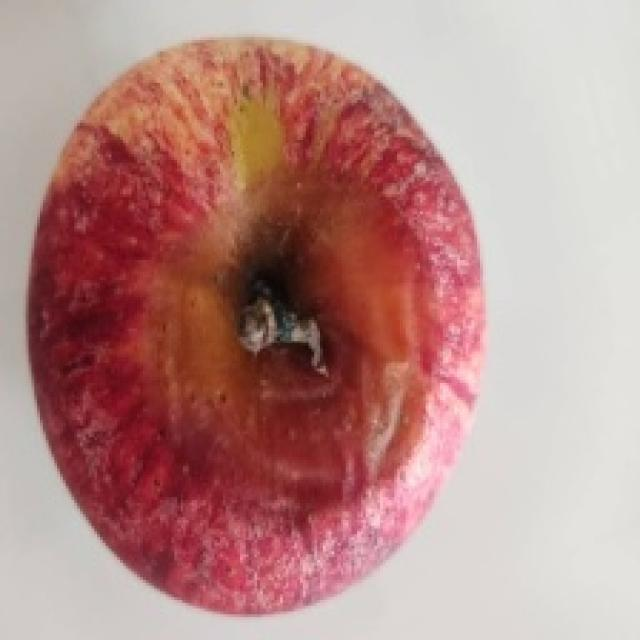rotten_apple: (36, 41, 482, 608)
